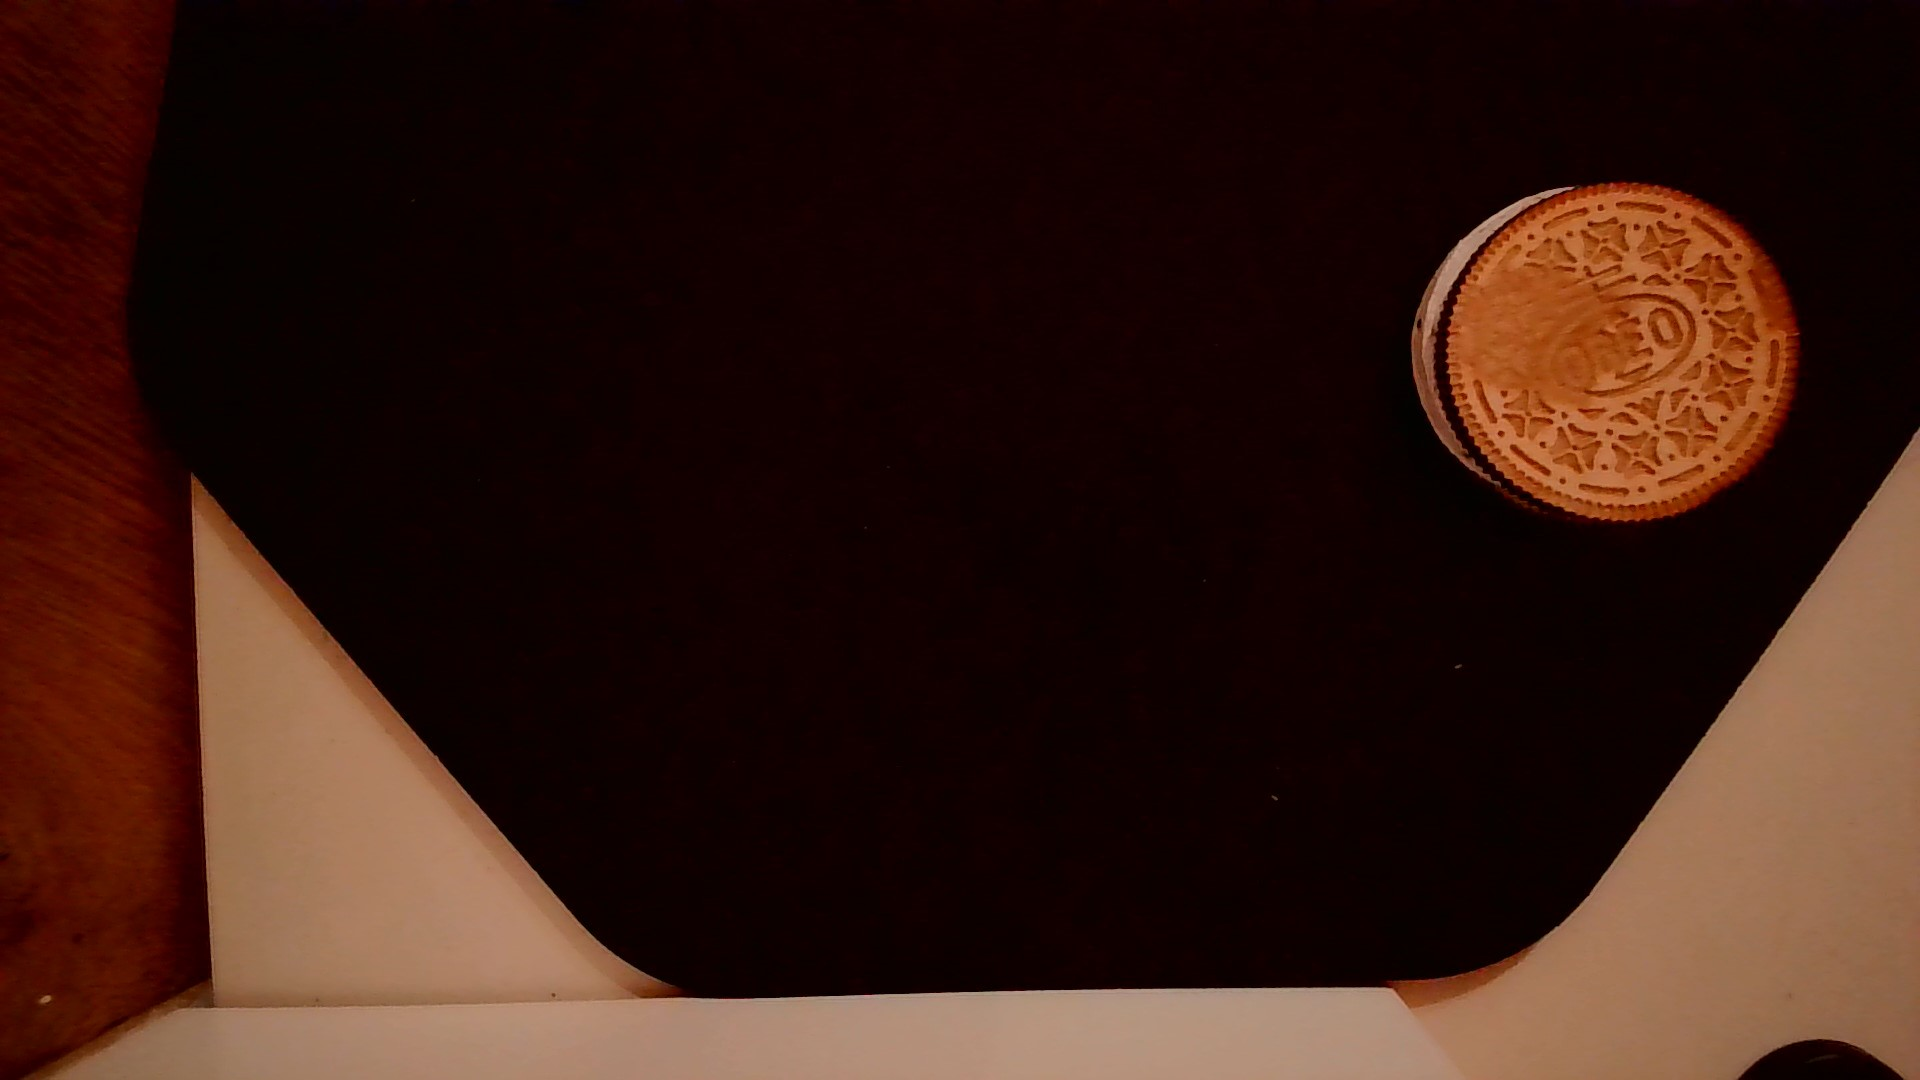Décalé: (1398, 189, 1575, 502)
Effacé: (1461, 278, 1619, 400)
Oréo: (1429, 175, 1807, 530)
